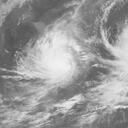cyclone: (34, 35, 75, 84)
